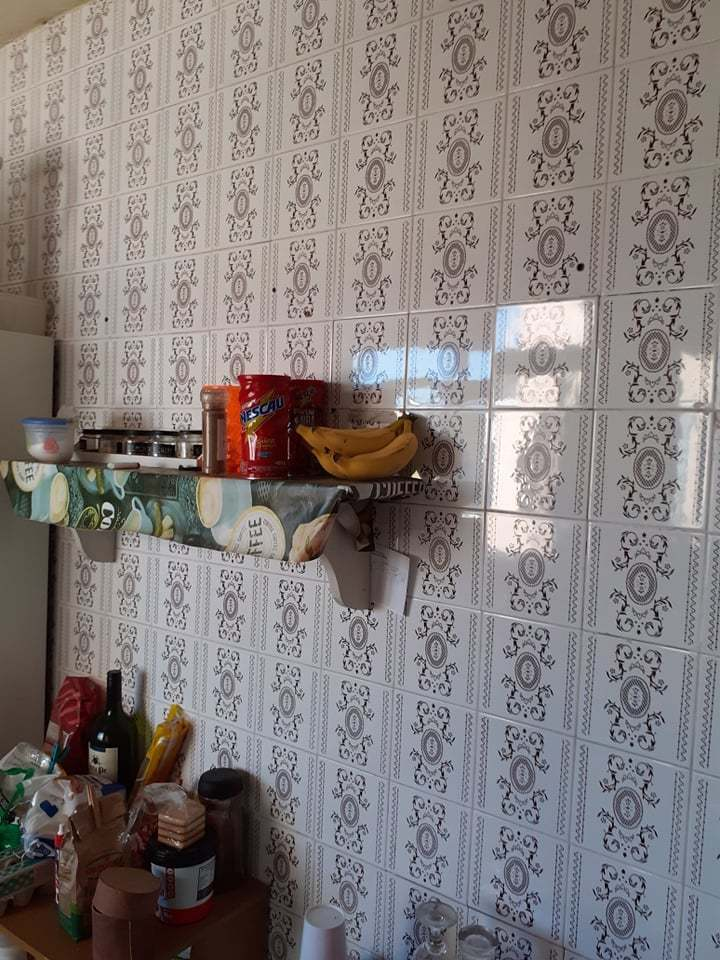banana: (298, 413, 424, 476)
